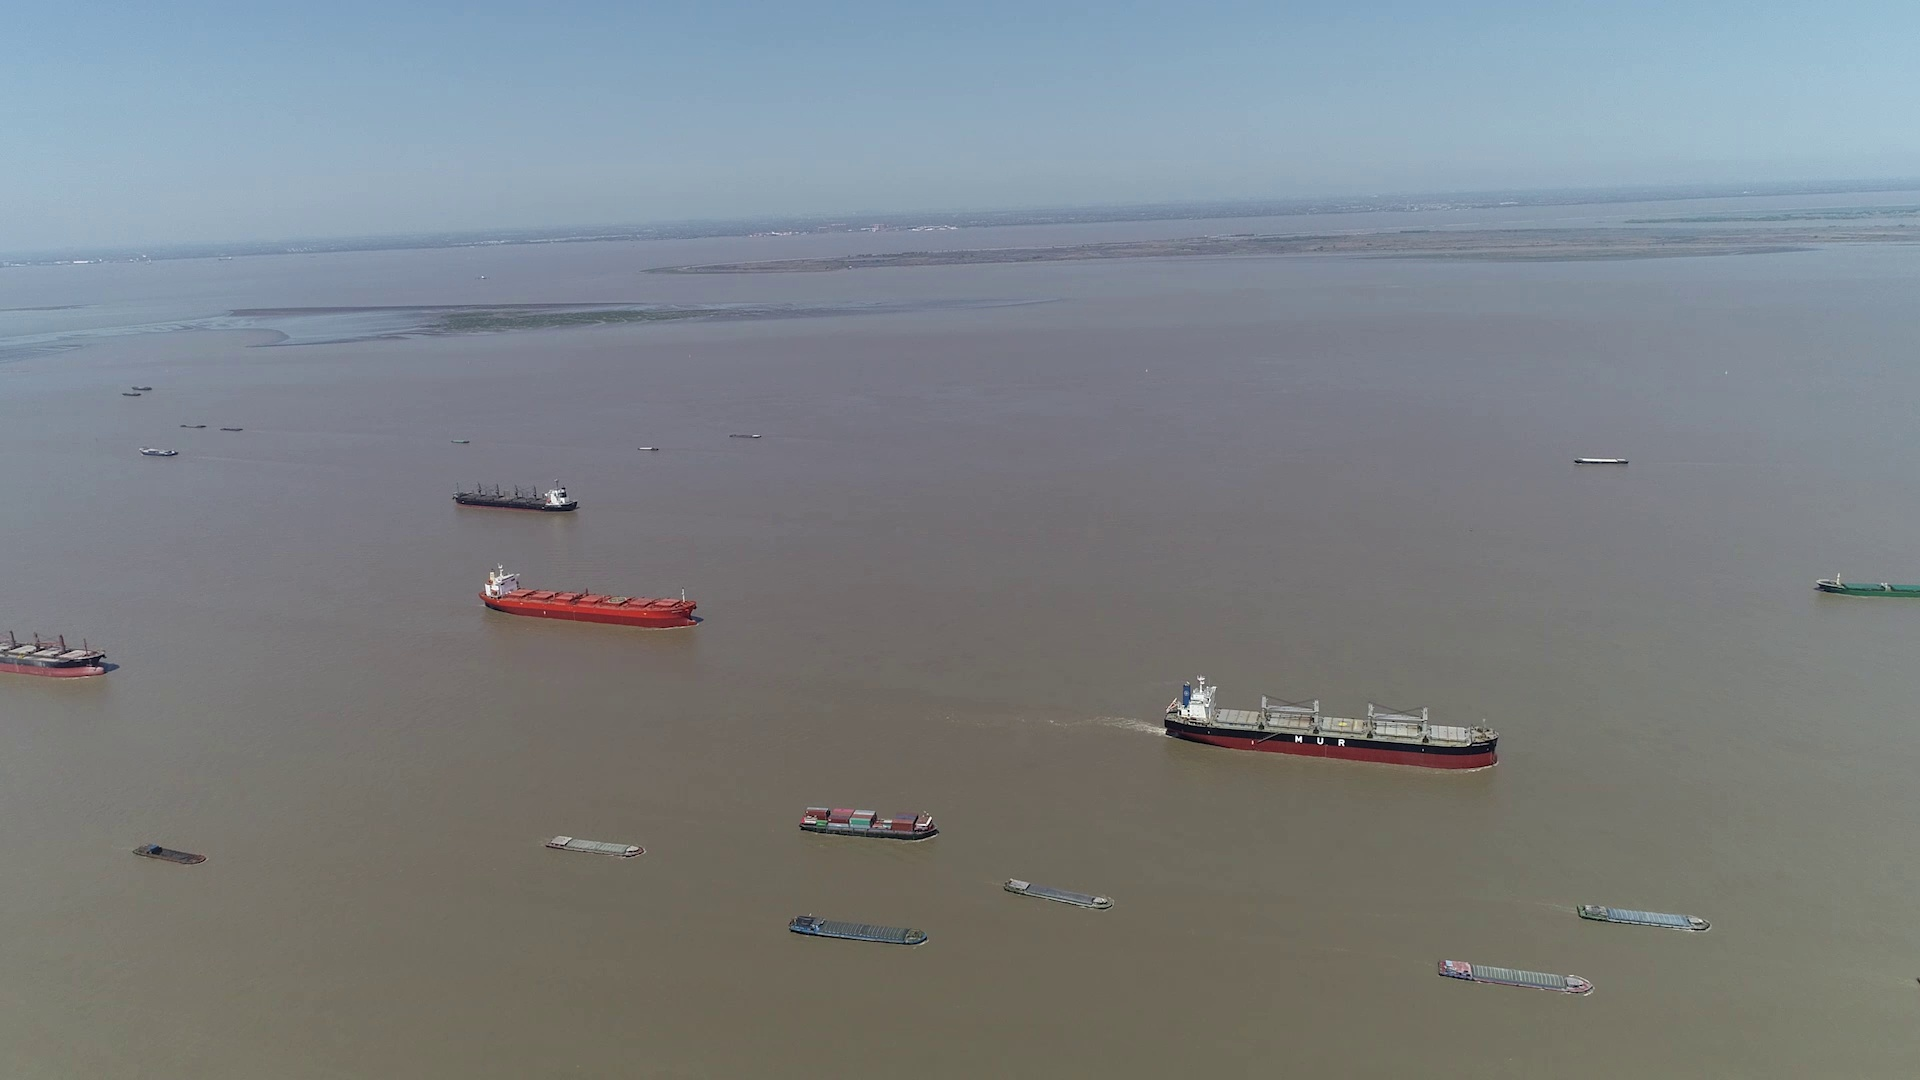ship: (1164, 676, 1501, 769), (485, 562, 695, 629), (3, 615, 115, 680), (1441, 959, 1590, 996), (800, 807, 939, 841), (789, 913, 928, 945), (454, 480, 578, 512), (1004, 877, 1112, 913), (1580, 905, 1709, 931), (545, 833, 644, 858), (1816, 576, 1920, 597), (136, 843, 204, 865), (138, 446, 178, 458), (1576, 458, 1627, 465)
